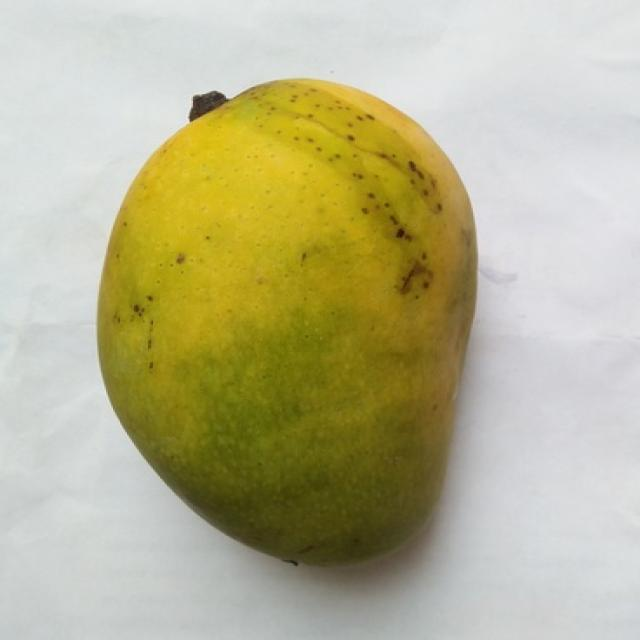Mango: (97, 81, 475, 563)
